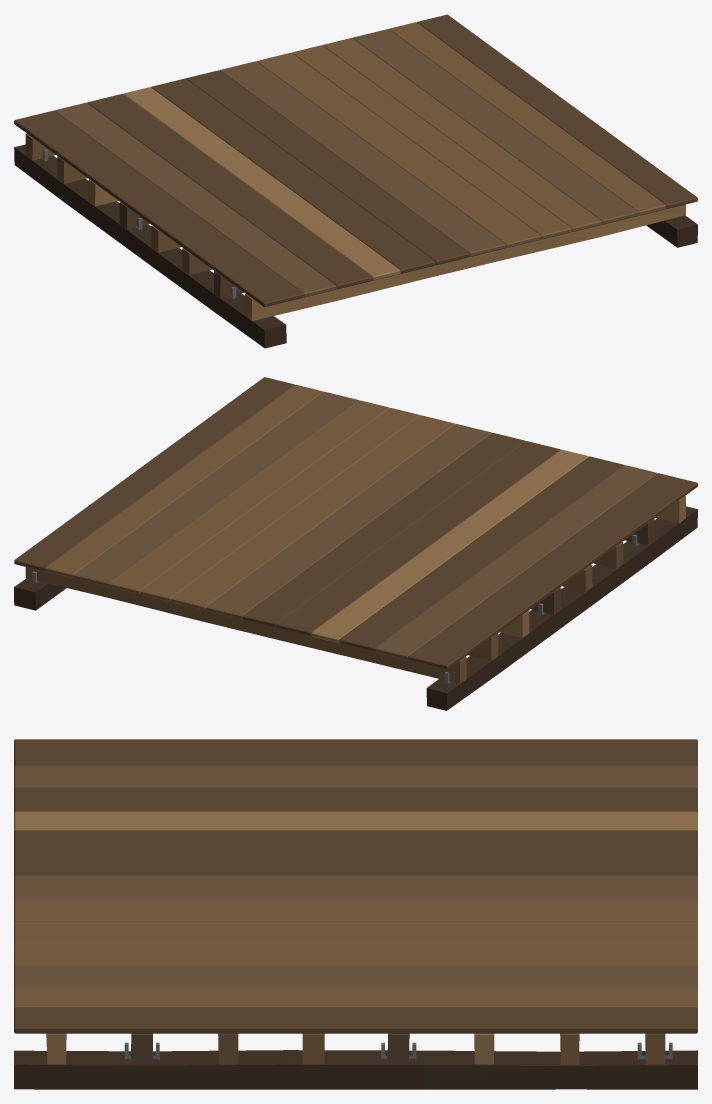
File: SM_LPD_Struct_CeilTimberJoisted_01.fbx
The picture shows the model from 3 angles, top to bottom: view 1: azimuth 30°, elevation 25°; view 2: azimuth 150°, elevation 25°; view 3: azimuth 270°, elevation 25°; orthographic projection. The views are drawn at different scales.
Parts seen in each view (by area): view 1: SM_LPD_Struct_CeilTimberJoisted_01; view 2: SM_LPD_Struct_CeilTimberJoisted_01; view 3: SM_LPD_Struct_CeilTimberJoisted_01.
Part boxes in pixels (x1,y1,x2,y2): SM_LPD_Struct_CeilTimberJoisted_01: [14, 14, 697, 348]; SM_LPD_Struct_CeilTimberJoisted_01: [14, 377, 697, 710]; SM_LPD_Struct_CeilTimberJoisted_01: [14, 739, 697, 1089].
Bounding box in the file's own units: 4 × 0.4 × 4.
